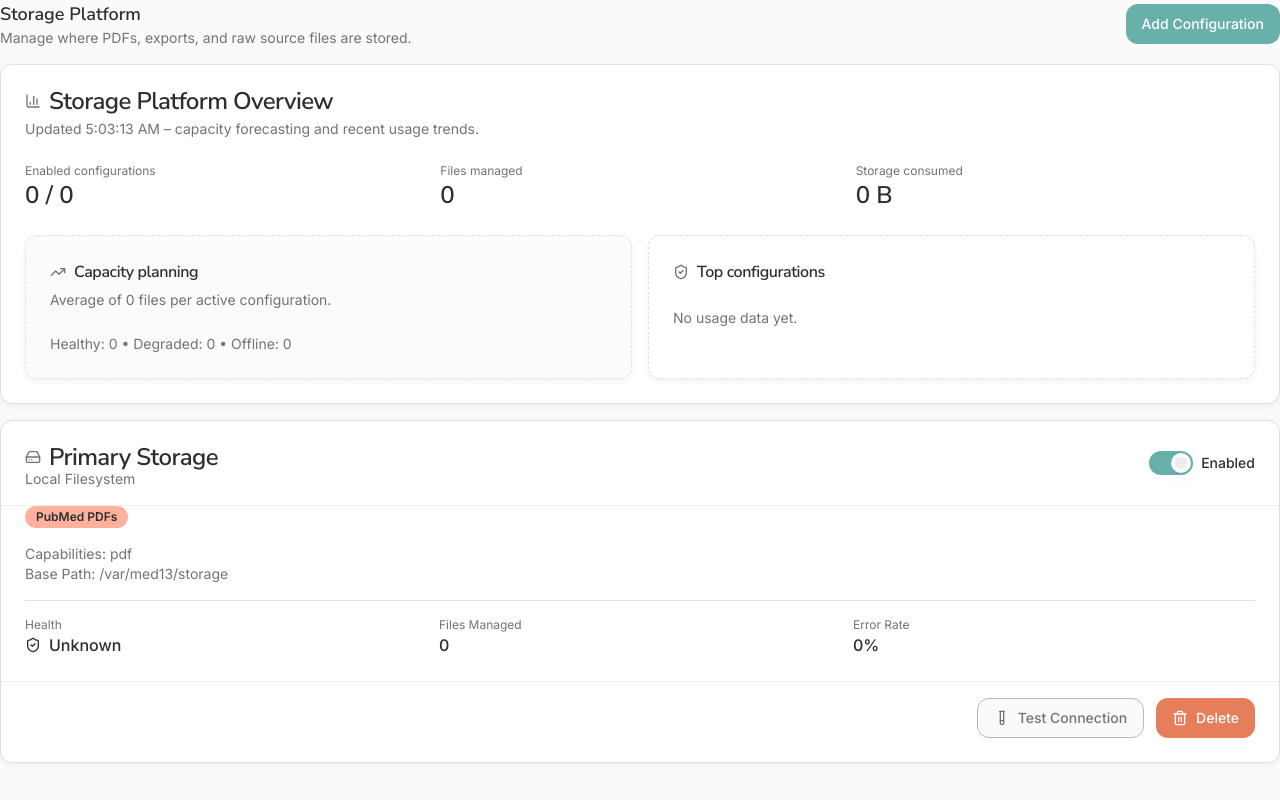
StorageConfigurationManager › shows maintenance confirmation when editing base path without maintenance
The image size is (1280, 800).
Click the button "Add Configuration". click: (1203, 24)
box: x1=1126 y1=4 x2=1279 y2=44
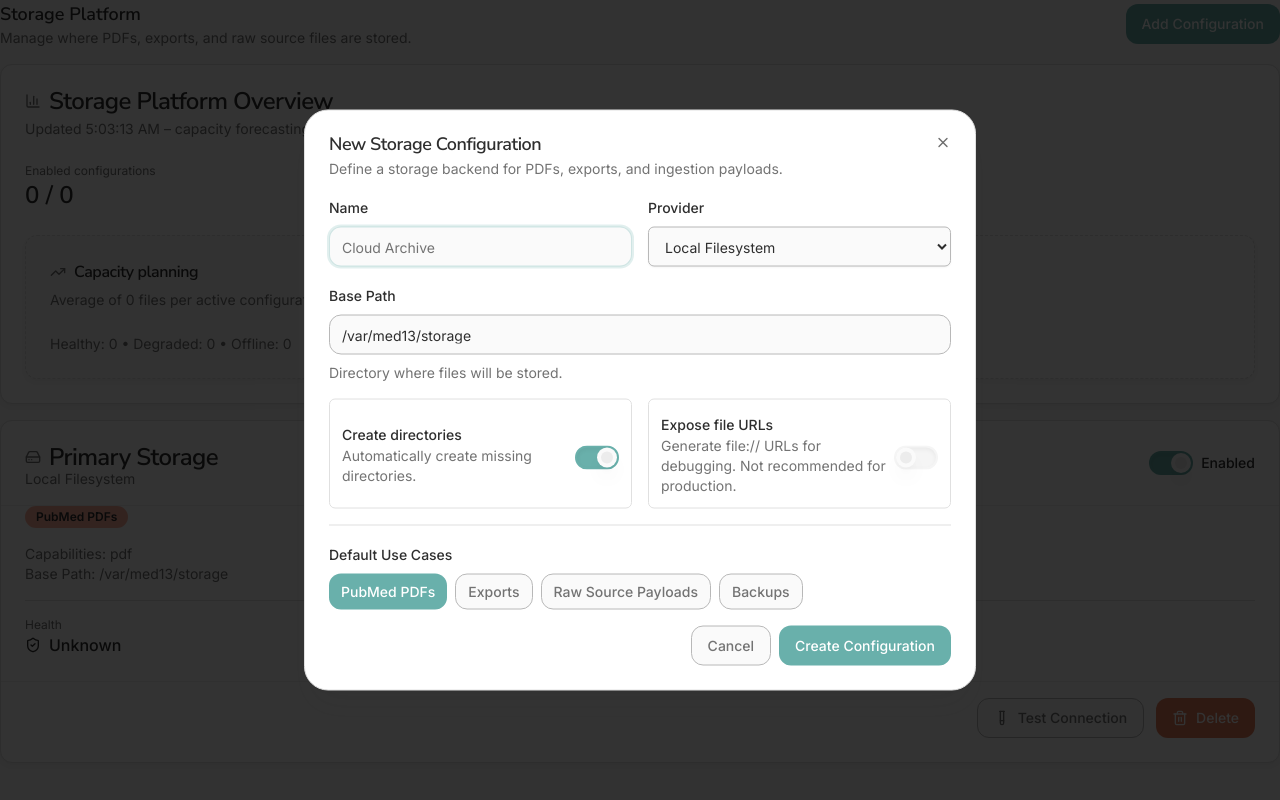
Type "Updated Storage" into the field labelled "Name". click: (480, 246)
box: x1=329 y1=226 x2=632 y2=266
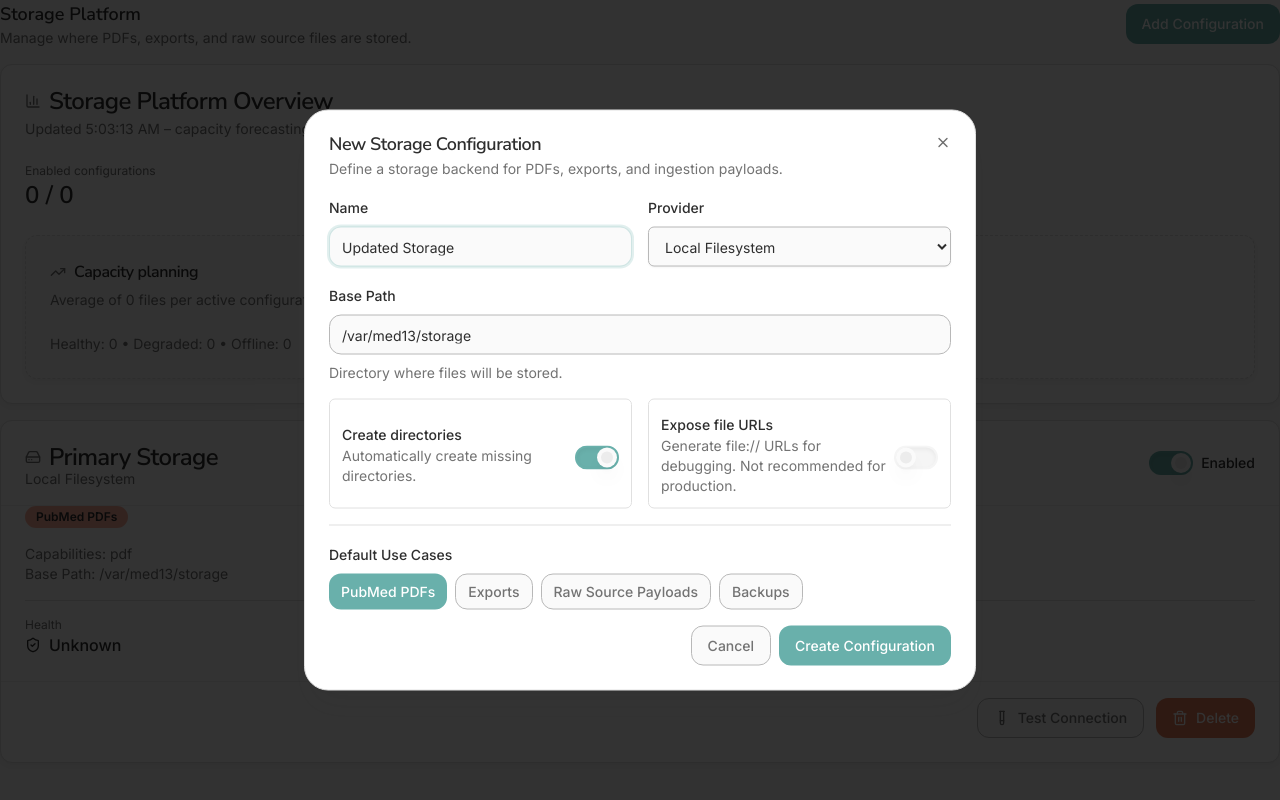
Type "/tmp/archive" into the field labelled "Base Path". click: (640, 334)
box: x1=329 y1=314 x2=951 y2=354
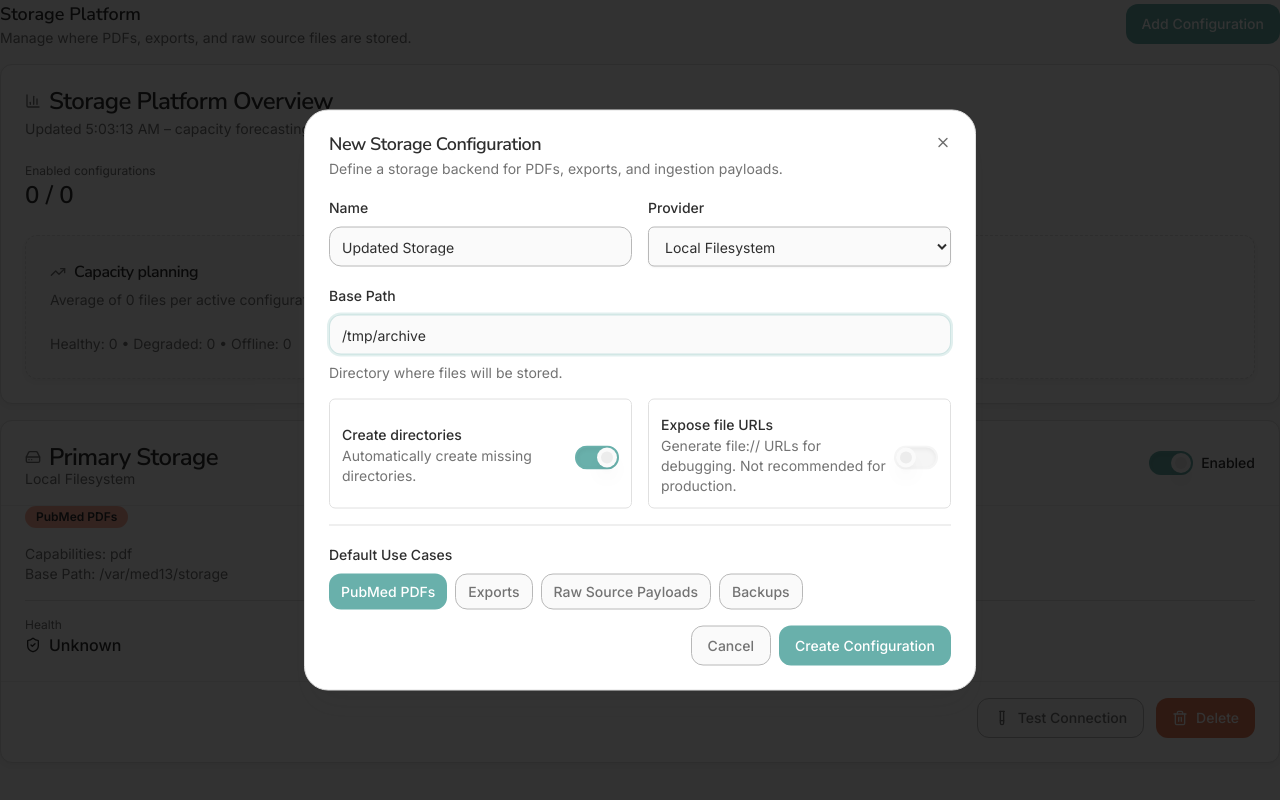
Click the button "Create Configuration". click: (865, 646)
box: x1=779 y1=626 x2=951 y2=666
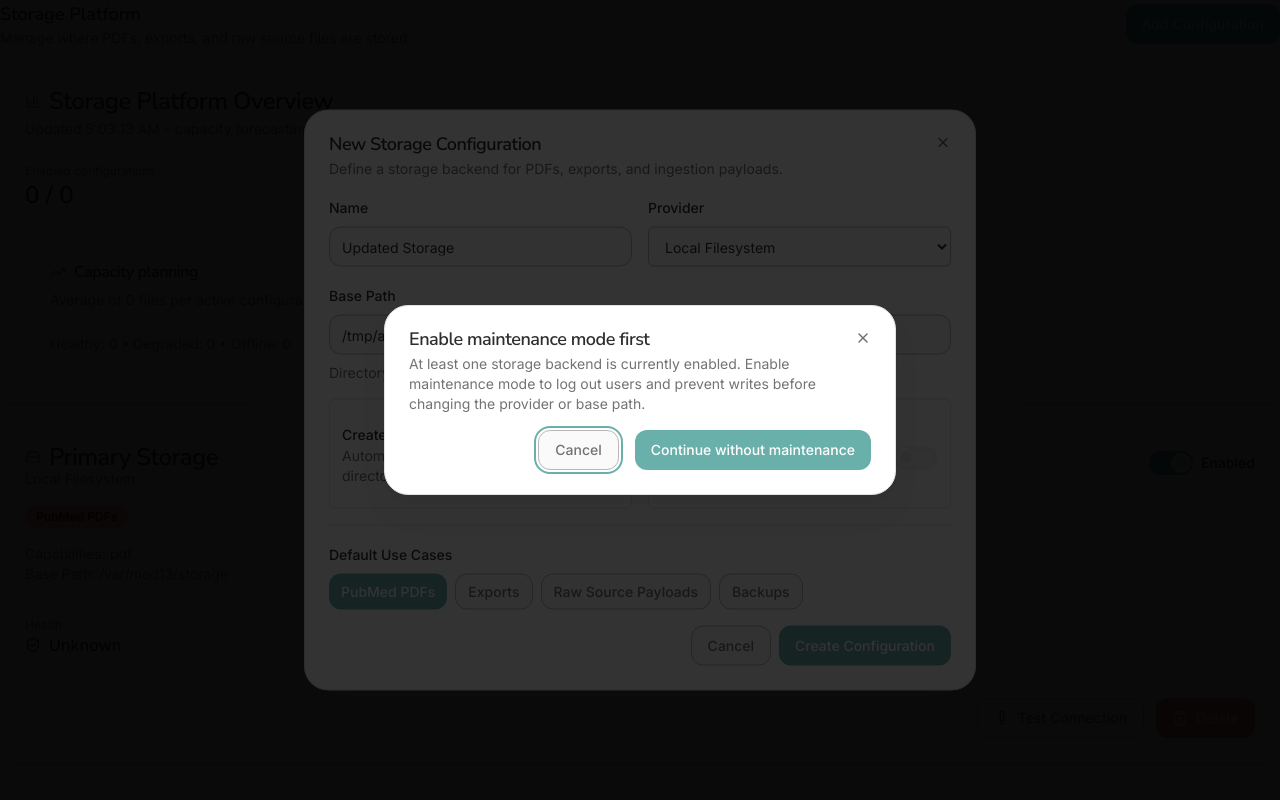
Check: the heading "Enable maintenance mode first" is shown, box x1=409 y1=327 x2=650 y2=351
